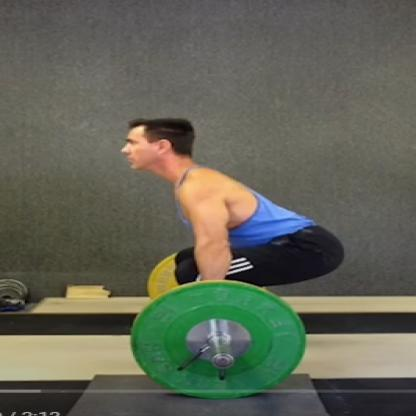Barbell: (119, 274, 315, 403)
